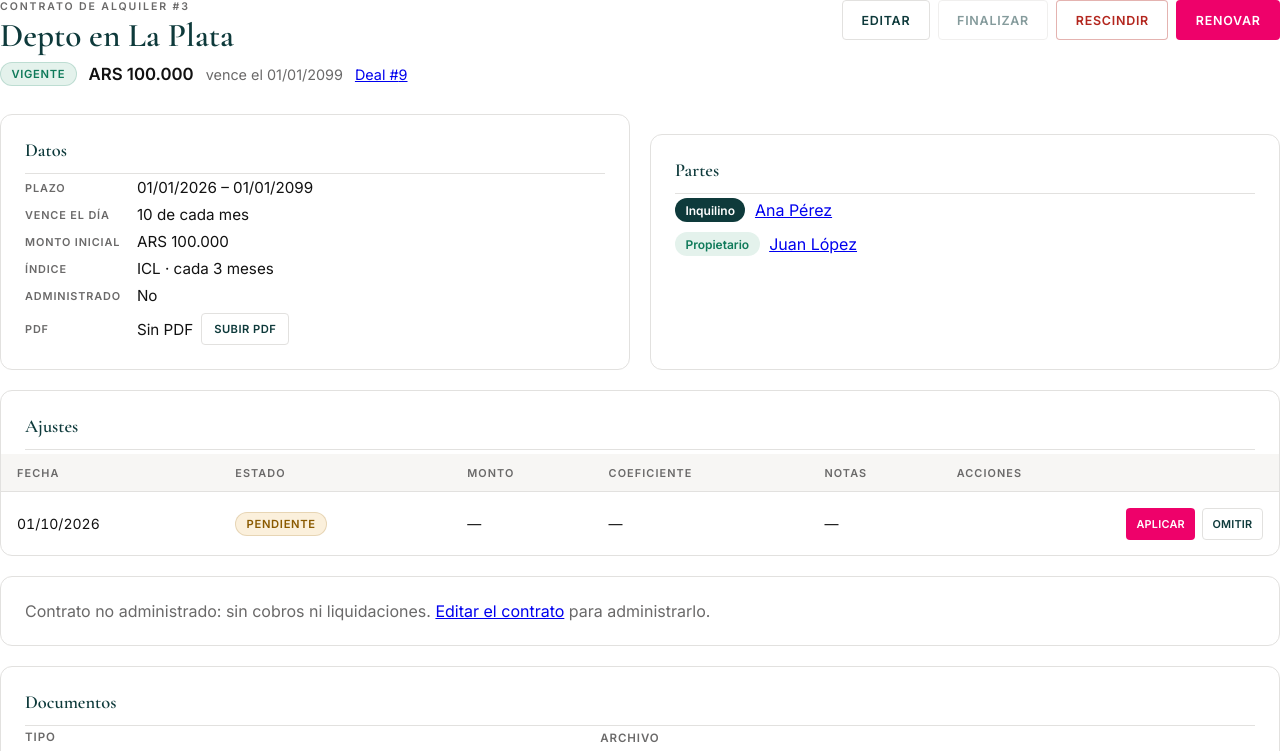
aplicar un ajuste abre el modal y reemplaza el contrato con la respuesta
Click the button "Aplicar".
click(1161, 524)  # box [1126, 508, 1195, 540]
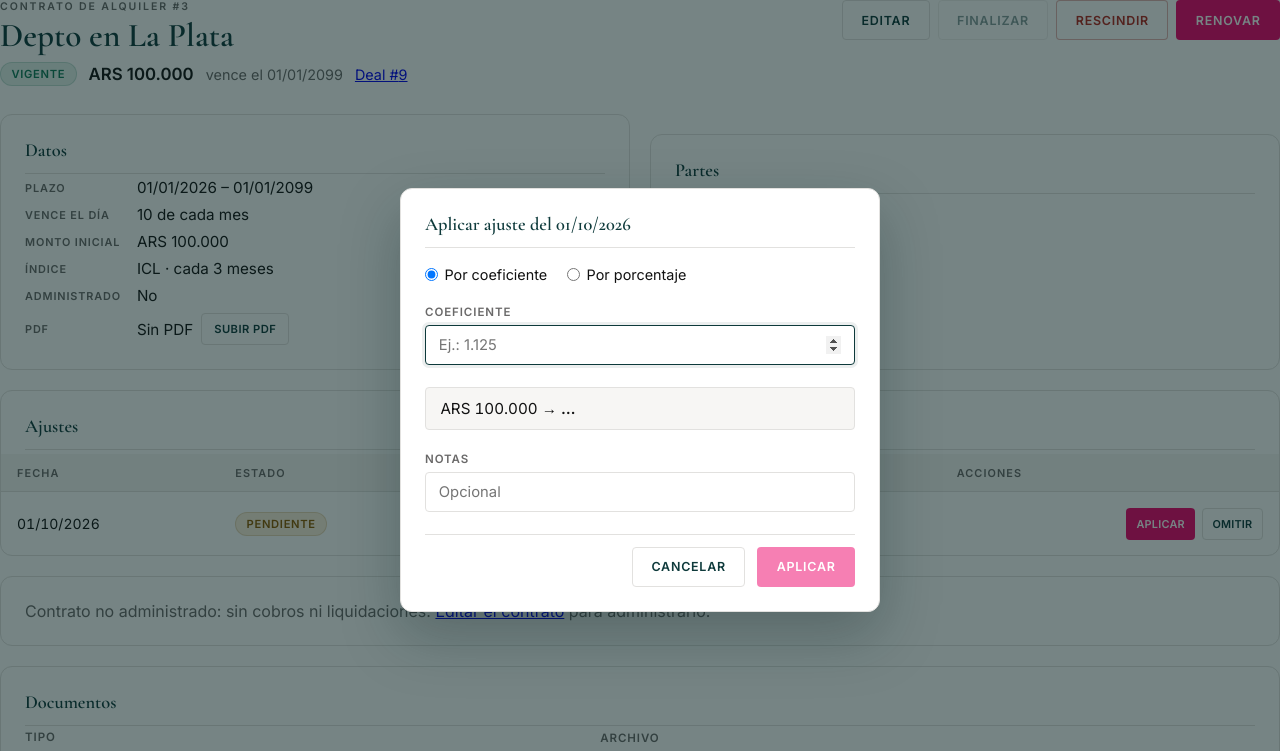
Type "1.1" into the number field labelled "Coeficiente".
click(640, 345); type("1.1")  # box [425, 325, 855, 365]
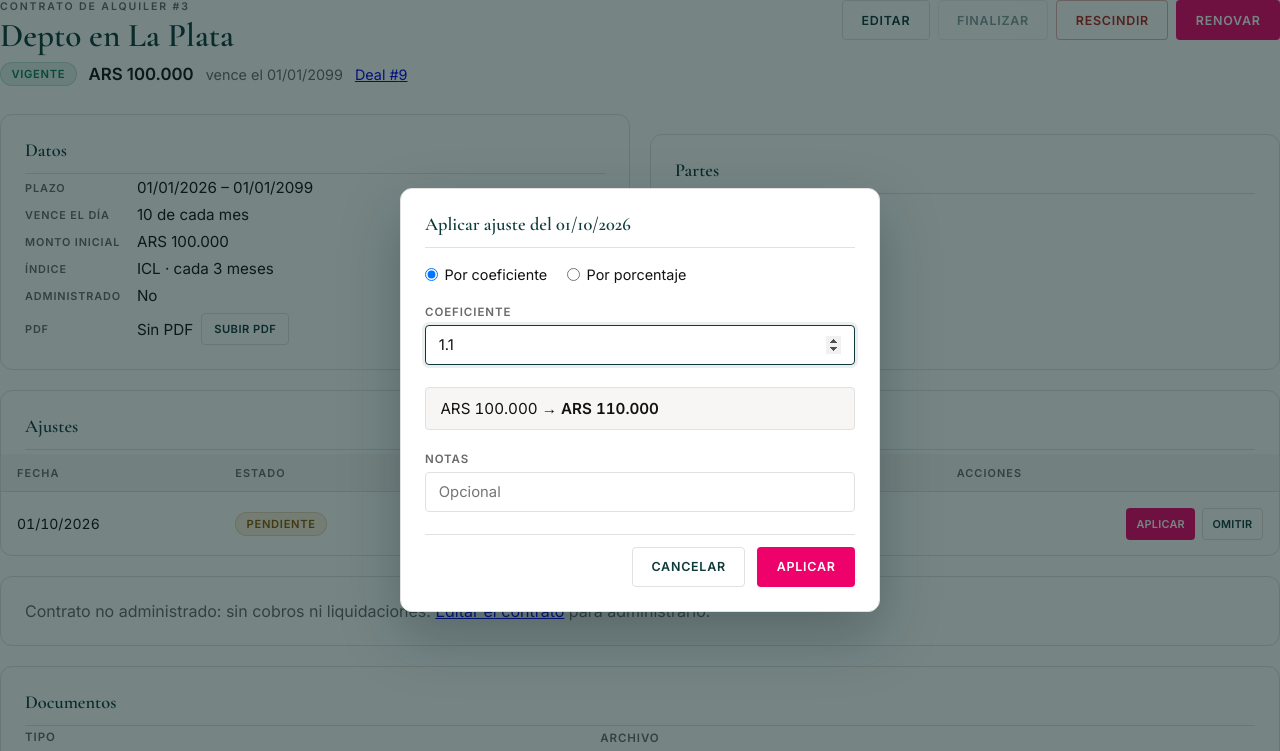
Click the button "Aplicar".
click(806, 567)  # box [757, 547, 855, 587]
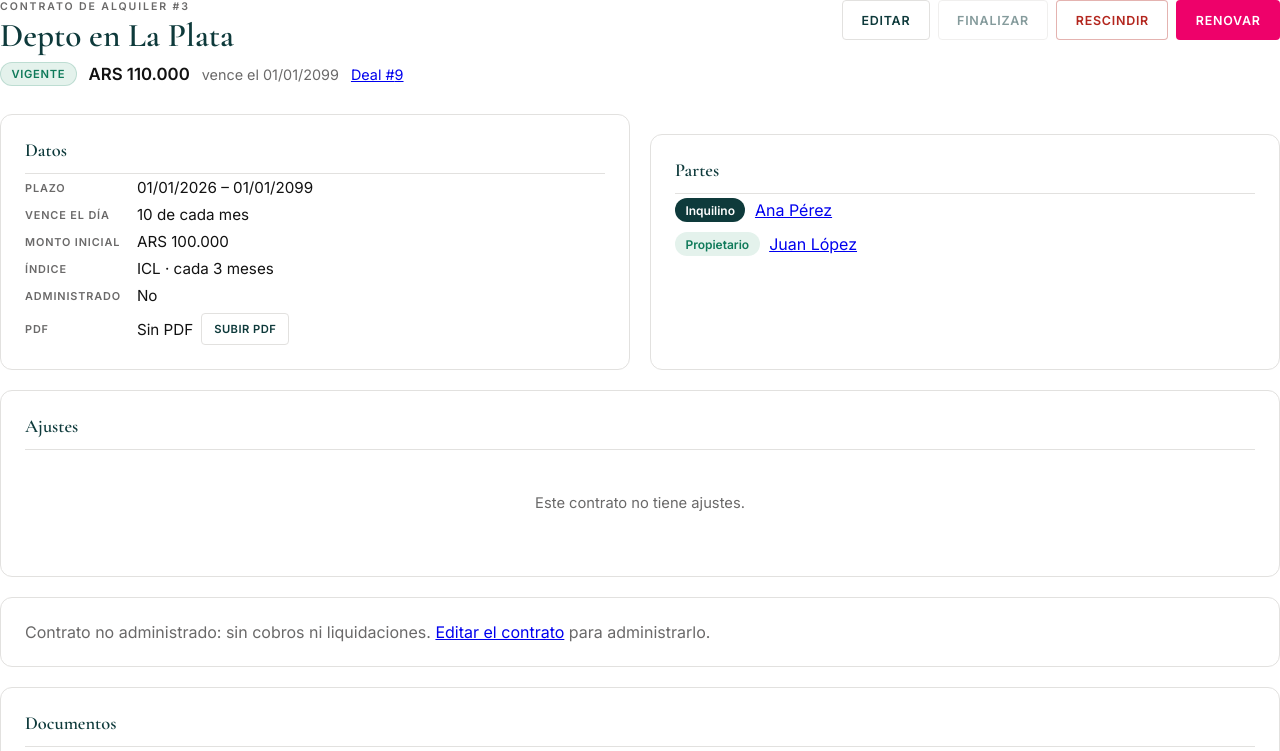
Now the text "ARS 110.000" is shown, box [88, 64, 190, 84]
Now the dialog is gone
